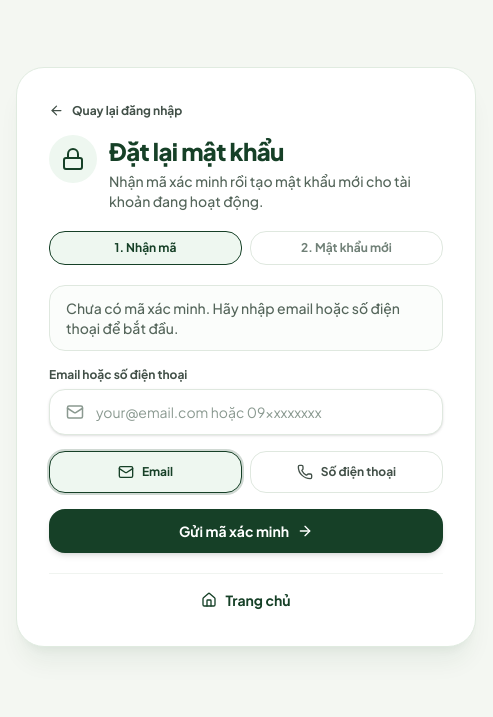
it: ForgotPasswordPage › requests a new OTP from the reset step without leaving the password form
Type "camper@ctms.local" into the field labelled "Email hoặc số điện thoại" at (261, 412), box [96,402,426,422]
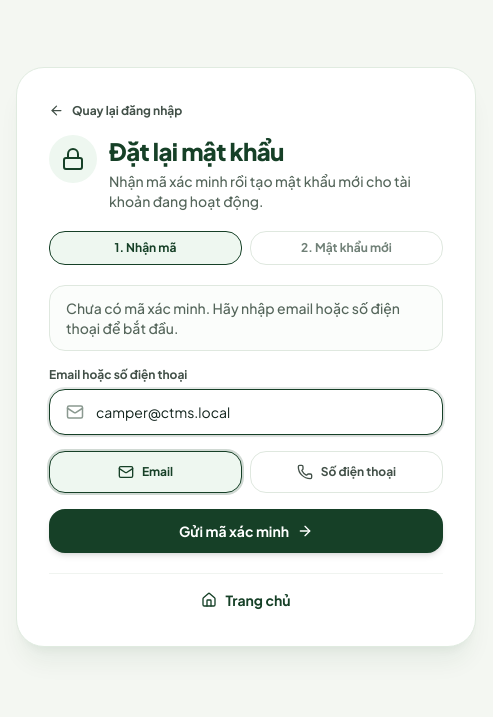
Click the button "Gửi mã xác minh" at (246, 531), box [49,509,443,553]
(page scrolled)
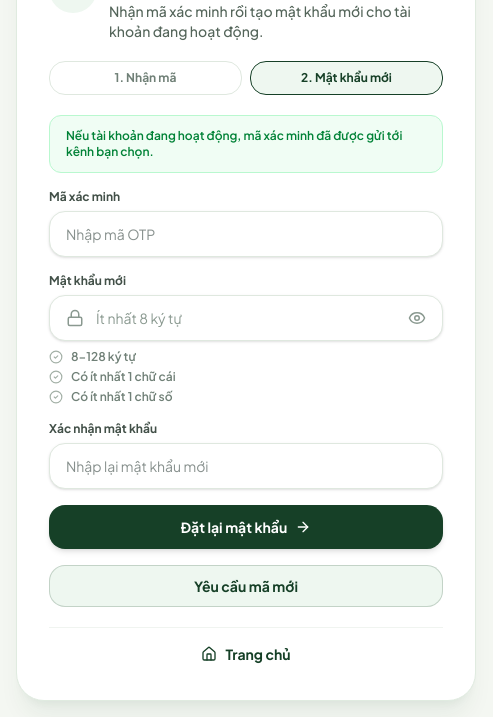
expect the text "Nếu tài khoản đang hoạt động" is shown: met, box [66,128,402,158]
Click the button "Yêu cầu mã mới" at (246, 586), box [49,564,443,606]
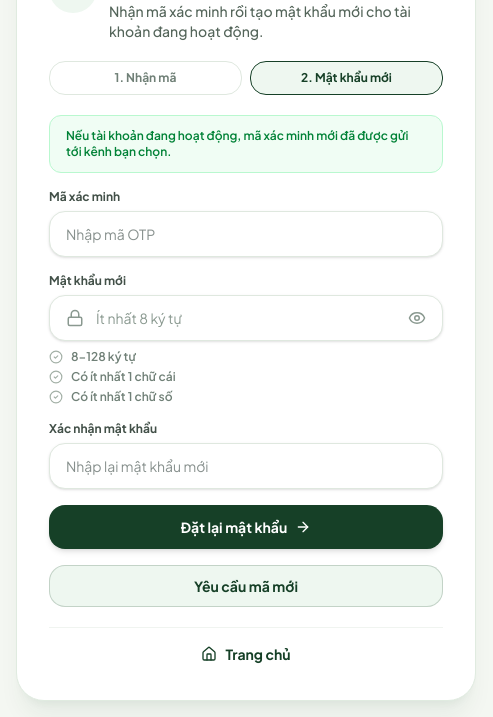
expect the field labelled "Mã xác minh" is shown: met, box [49,210,443,256]
expect the text "mã xác minh mới đã được gửi" is shown: met, box [66,128,409,158]
